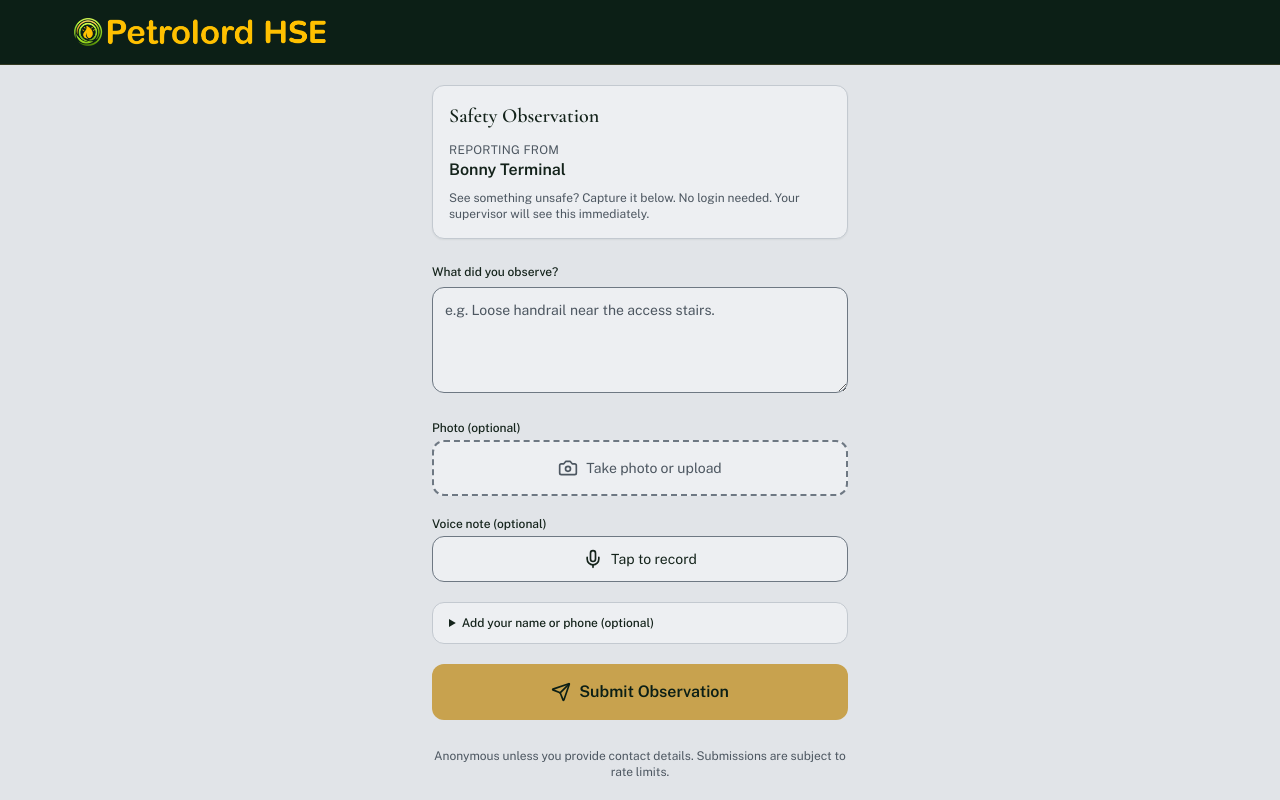
QR observation: the flow is unchanged › blank contact fields are sent as null
Check: the text "Bonny Terminal" is shown, box [449, 160, 566, 179]
Type "Spill at pump 3" into the text box labelled "What did you observe?". click: (640, 340)
box: [432, 287, 848, 393]
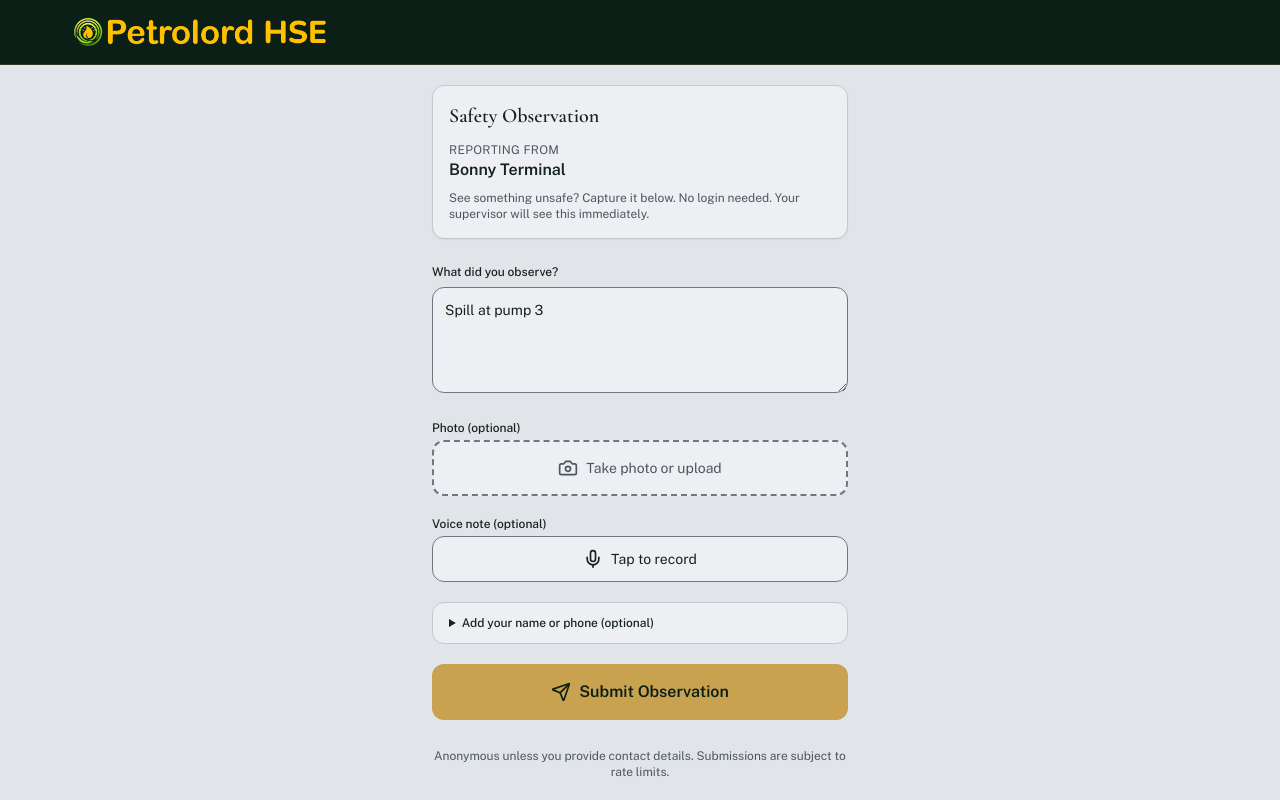
Click the button "Submit Observation". click: (640, 692)
box: [432, 664, 848, 720]
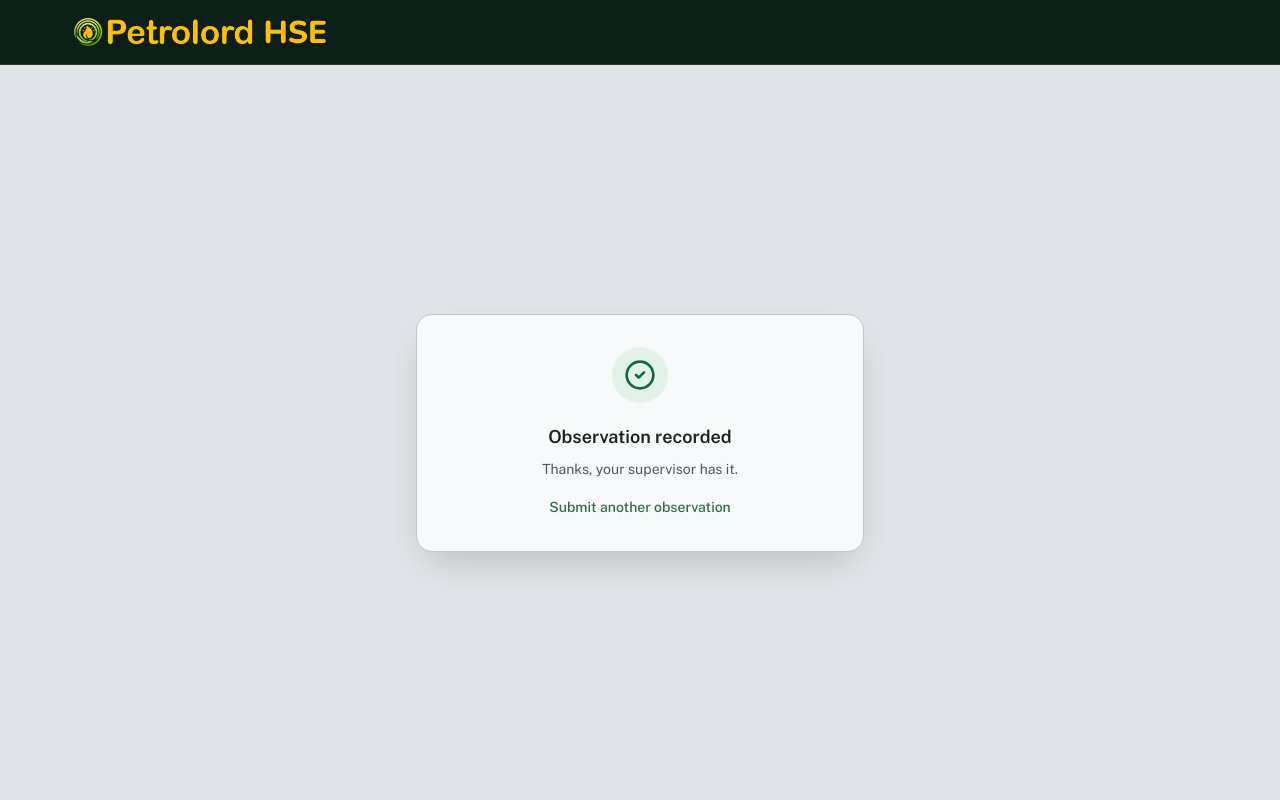
Check: the heading "Observation recorded" is shown, box [548, 426, 732, 446]
